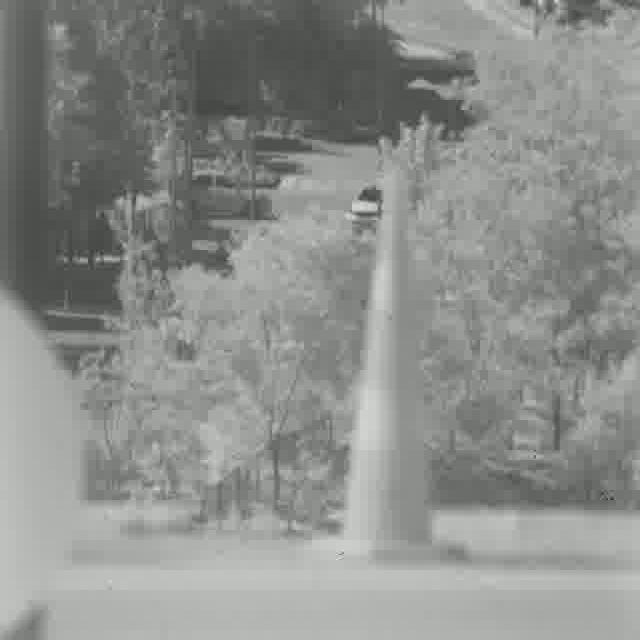Car: (345, 181, 382, 241)
